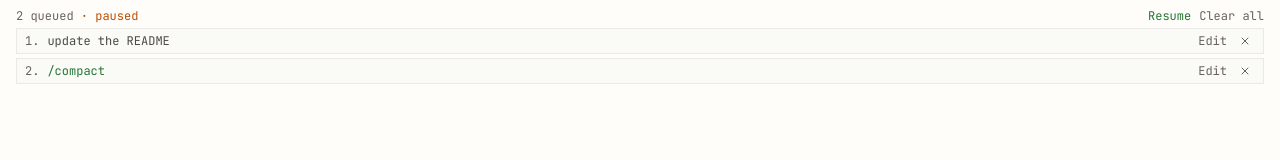
Test case: MessageQueue › shows paused state after Stop and Resume sends the next item
Expected: the text "· paused" is shown, [81, 8, 138, 24]
Click the button "Resume" at (1170, 16), box [1148, 8, 1191, 24]
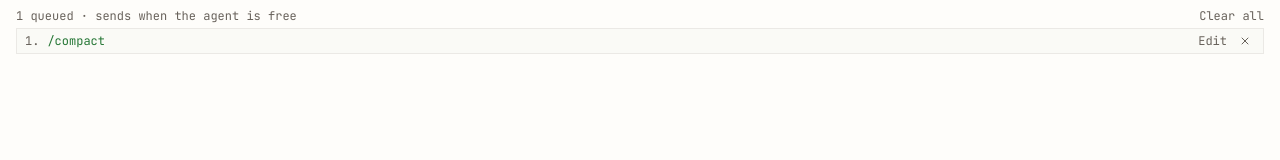
Expected: the button "Resume" is gone
